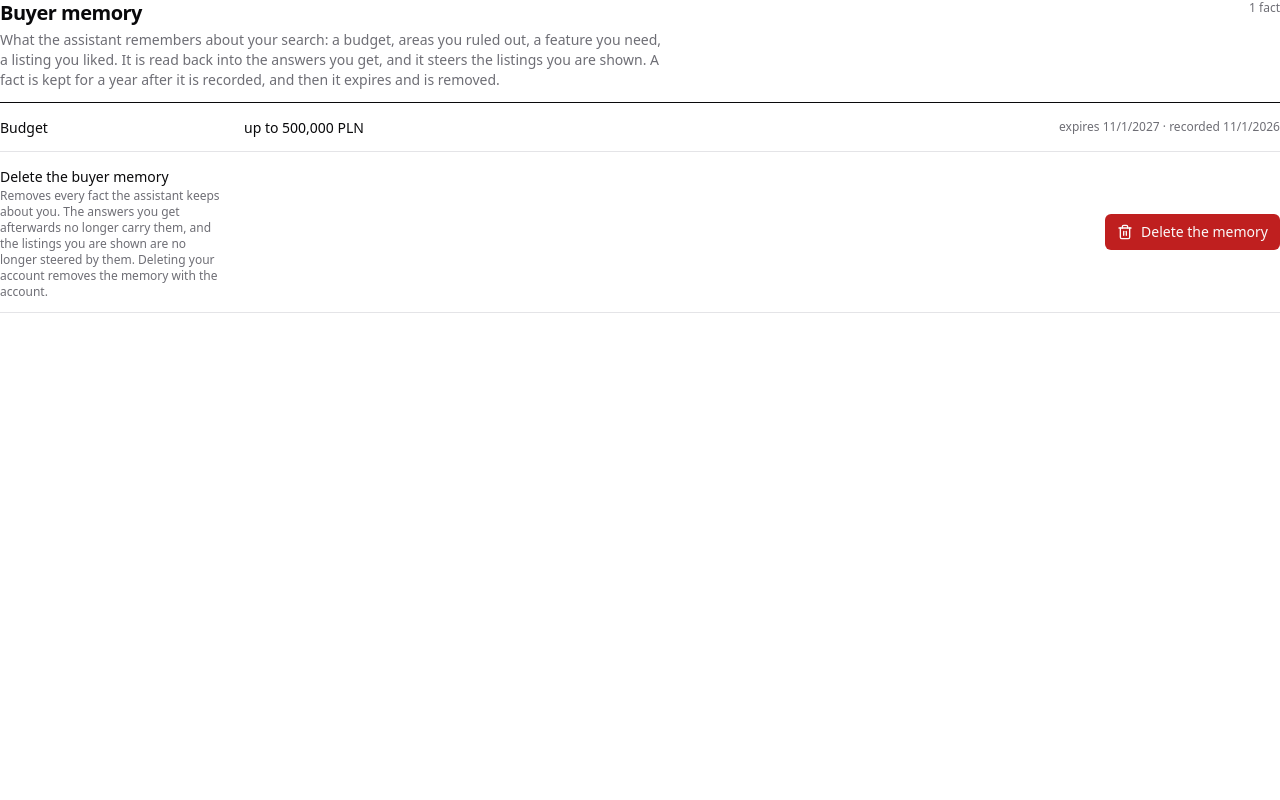
BuyerMemorySettings › asks first, and deletes nothing until the visitor confirms
This screenshot has width=1280, height=800.
Later steps or results of the test are not shown.
Expected: the text "up to 500,000 PLN" is shown, top-left (244, 118), bottom-right (364, 137)
Click the button "Delete the memory" at (1193, 232), box top-left (1105, 214), bottom-right (1279, 250)
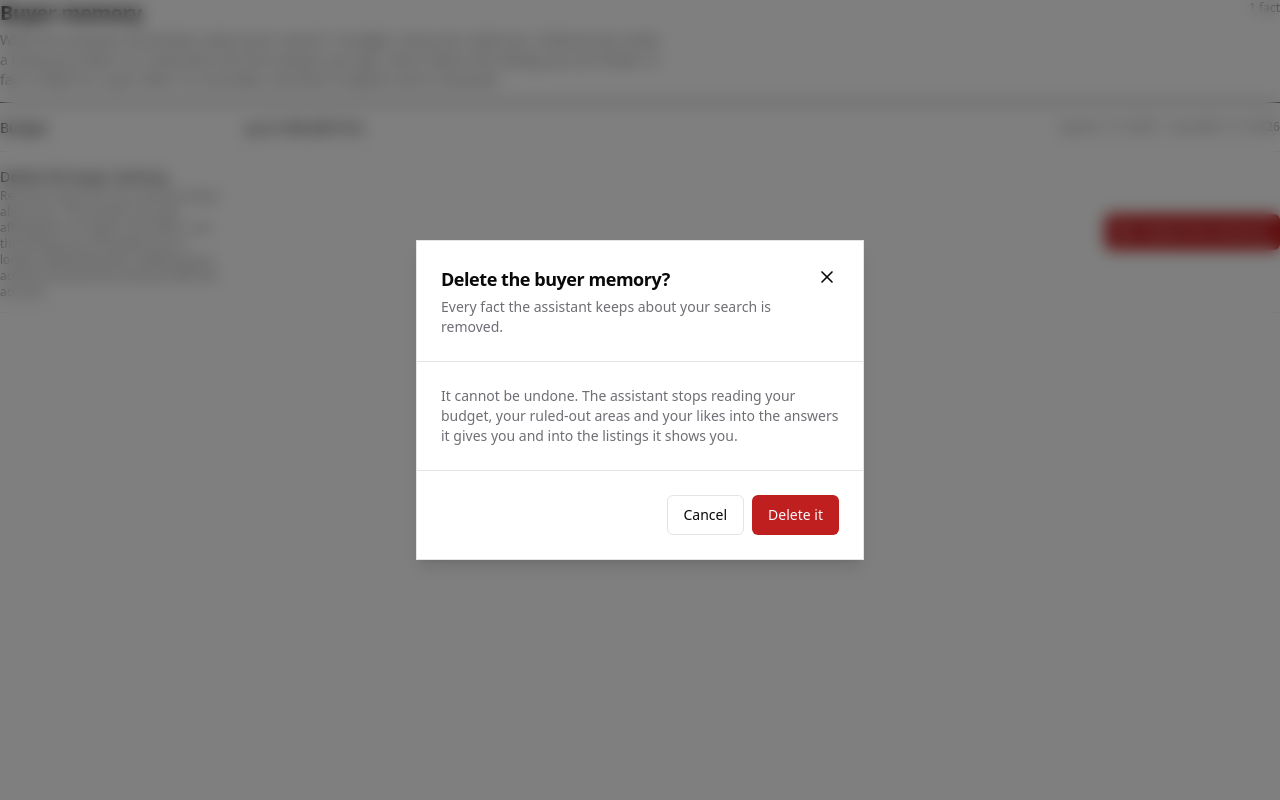
Result: the heading "Delete the buyer memory?" is shown at top-left (441, 267), bottom-right (670, 291)
